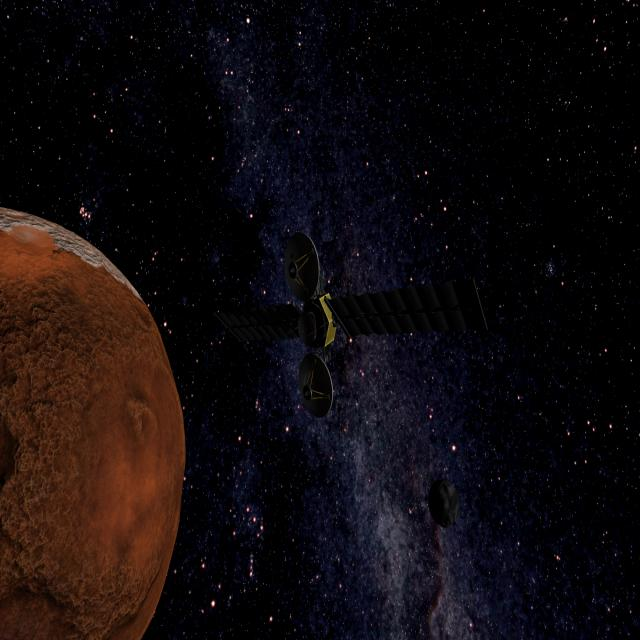medium_debris: (214, 221, 426, 420)
